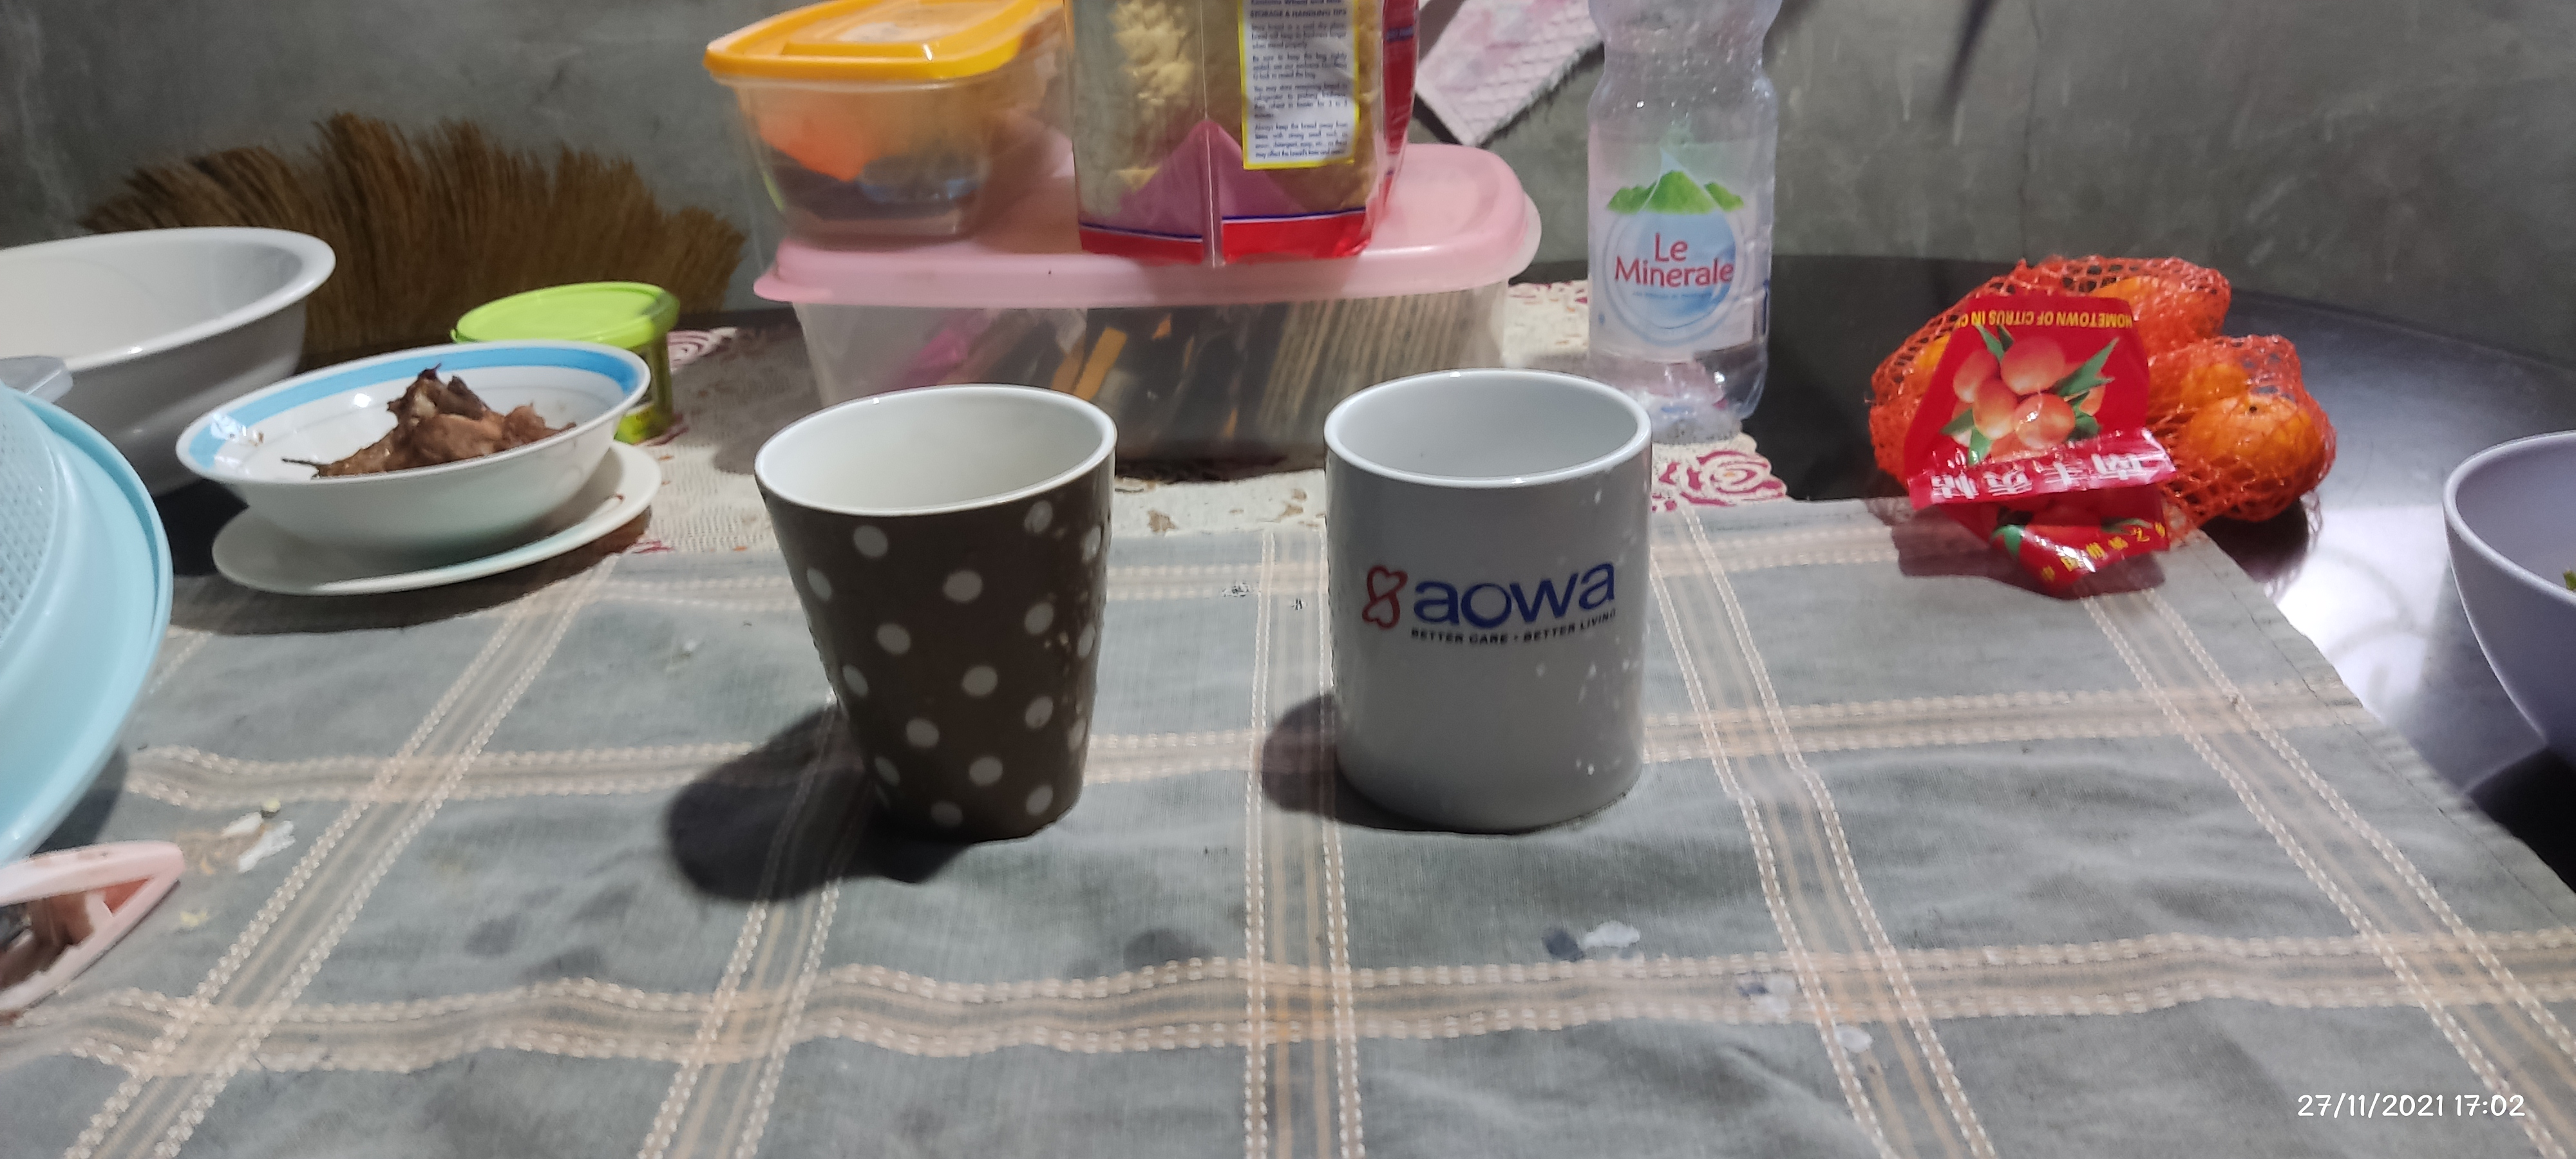mug: (752, 384, 1112, 845), (1319, 368, 1651, 827)
